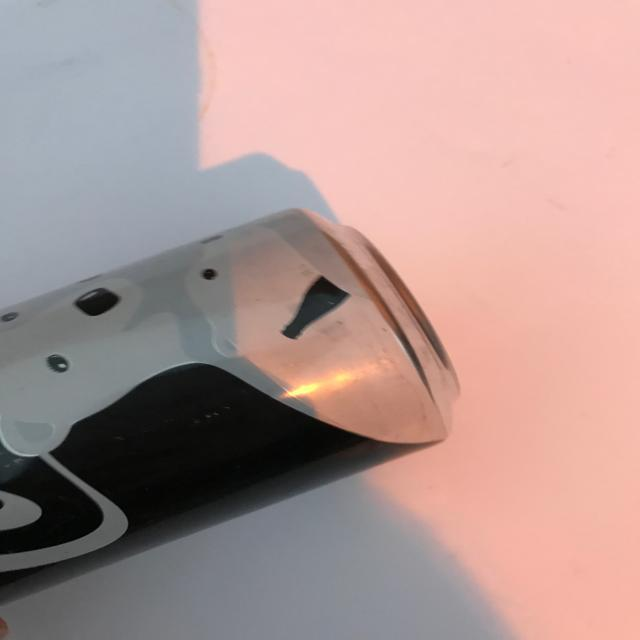metal: (0, 208, 468, 608)
